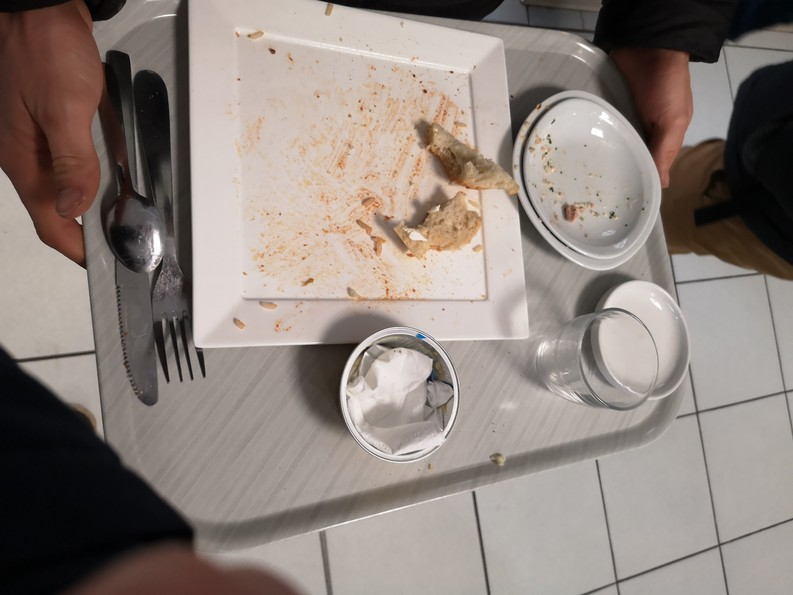cup: (527, 300, 660, 430)
cutlery: (86, 42, 222, 404)
orga: (385, 124, 516, 271)
trash: (341, 327, 468, 462)
